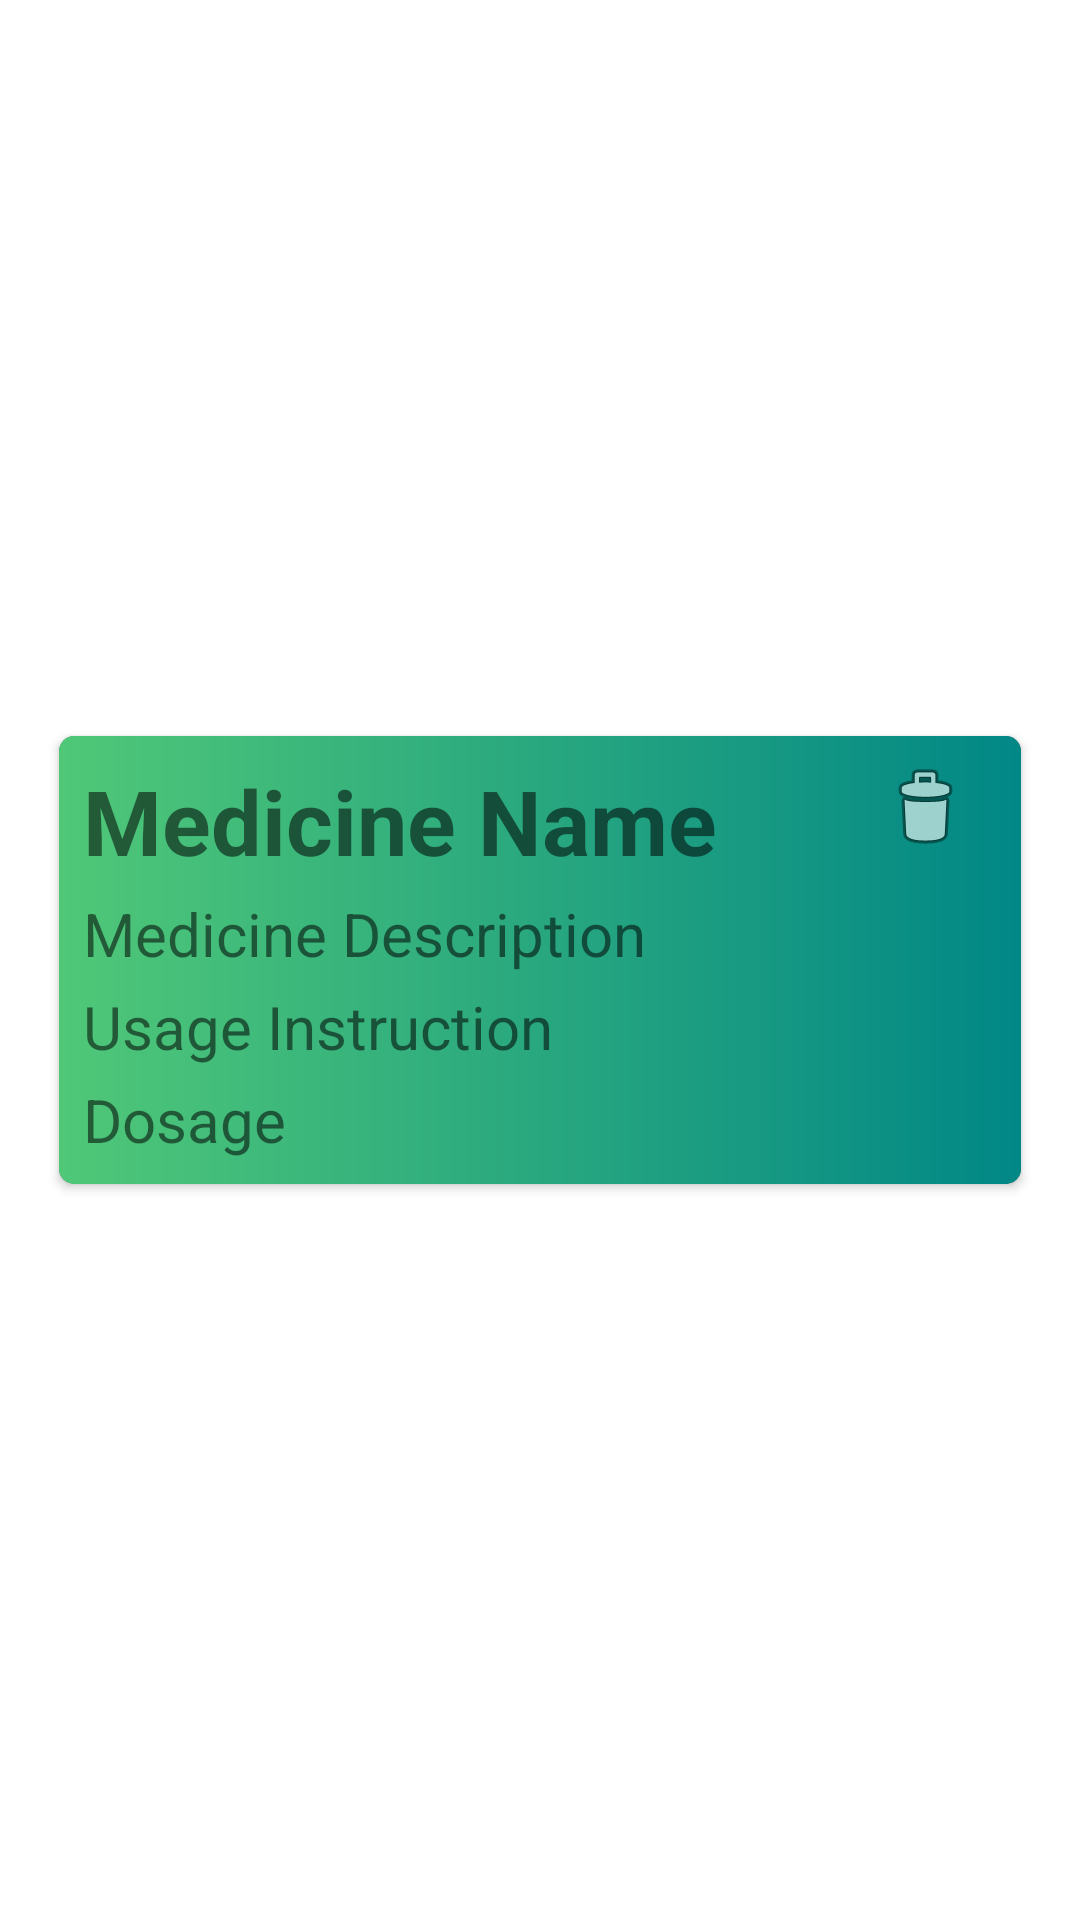

Named icons in this screenshot (1080*1920) and their centers, (x=x, y=y):
delete: (x=925, y=806)
